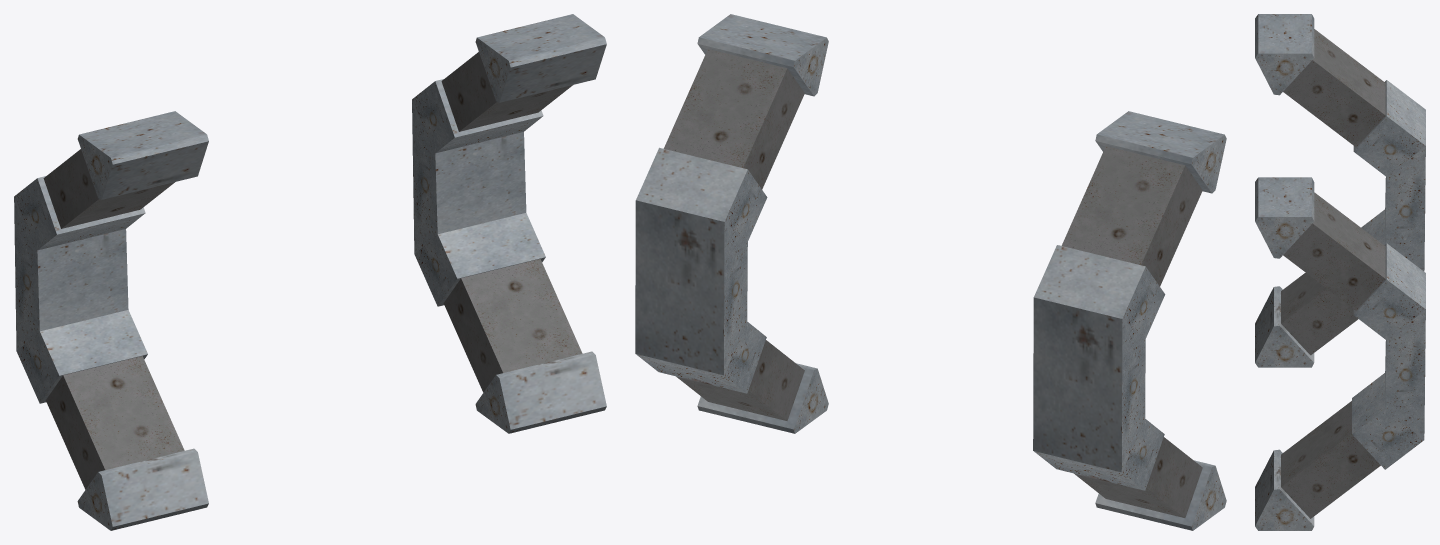
Rendered from Ob_WallClamps1_RC.fbx.
3 views of the same model, side by side, from view 1: azimuth 30°, elevation 25°; view 2: azimuth 150°, elevation 25°; view 3: azimuth 270°, elevation 25° (orthographic). The views are drawn at different scales.
Visible parts, largest first — view 1: Ob_WallClamps1_RC; view 2: Ob_WallClamps1_RC; view 3: Ob_WallClamps1_RC.
Part boxes in pixels (x1,y1,x2,y2): Ob_WallClamps1_RC: (14,14,606,530); Ob_WallClamps1_RC: (635,14,1226,530); Ob_WallClamps1_RC: (1255,14,1425,530).
Bounding box in the file's own units: 618 × 446 × 220.
